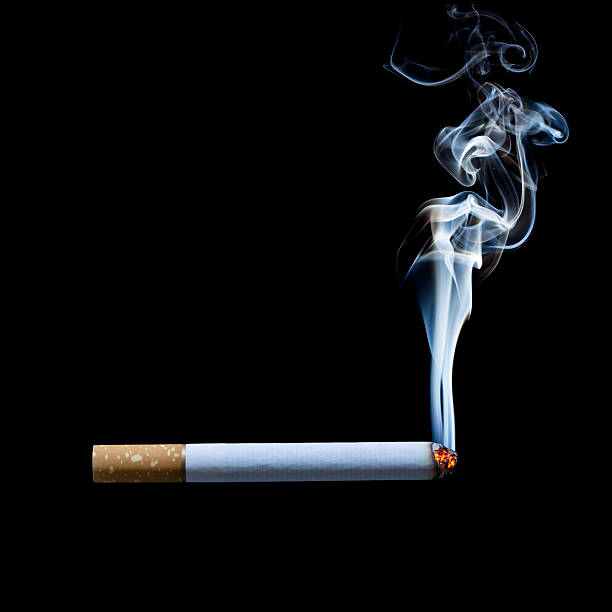cigarette: (91, 439, 457, 484)
